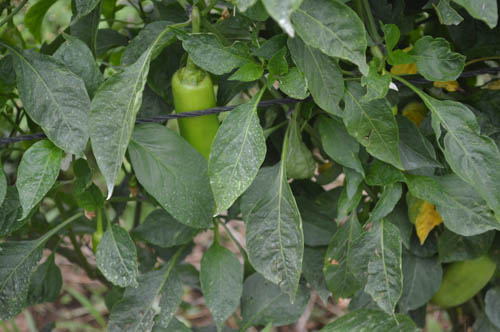ChiliPepper: (172, 75, 223, 163), (433, 258, 491, 312)
